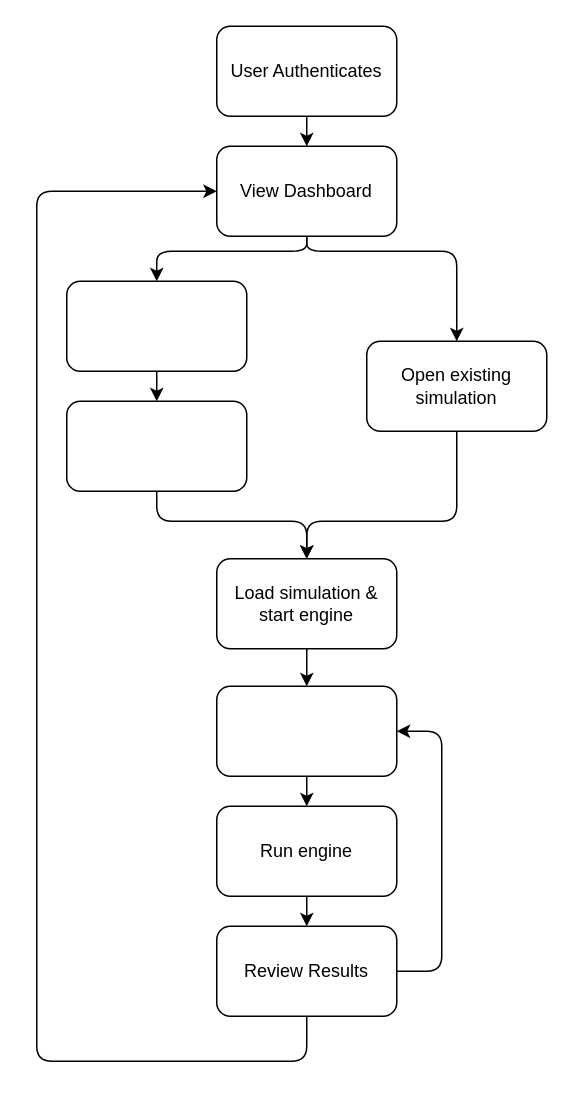
Image size: 573x1100. Some labels were removed from this diagram. Each missing label, with the centre of its shape:
"Create Simulation" belongs at (156,325).
"Enter Simulation parameters" belongs at (156,445).
"Implement Mitigations" belongs at (306,730).
